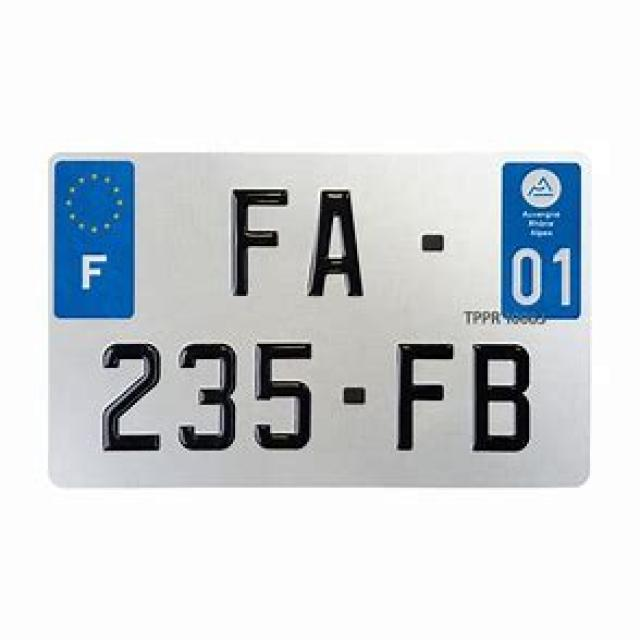Plaque: (54, 151, 589, 486)
